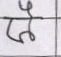ai_matra: (18, 0, 37, 17)
